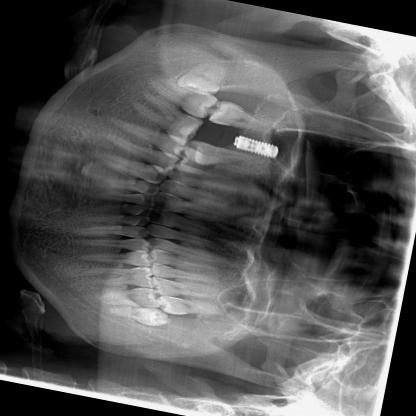ITI: (225, 131, 284, 161)
